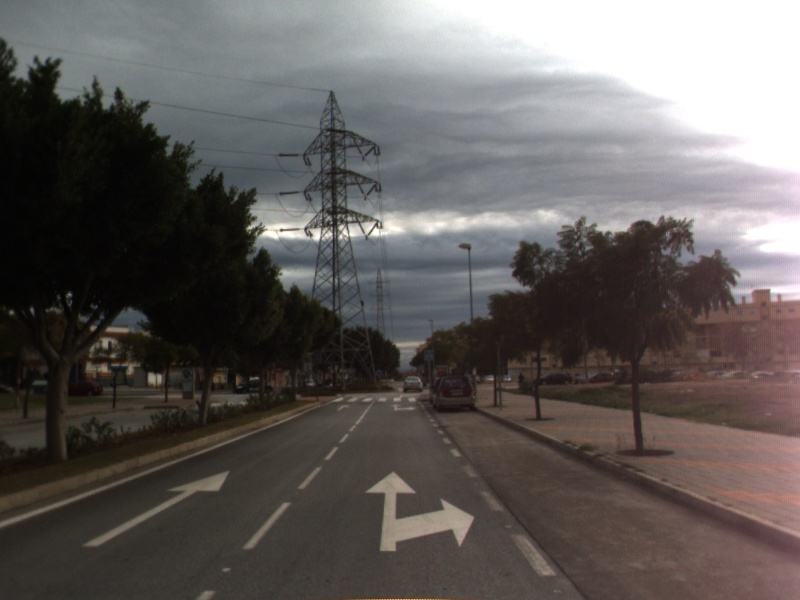STRAIGHT: (80, 469, 231, 549), (335, 402, 353, 412)
STRAIGHT_RIGHT: (363, 469, 477, 553), (389, 402, 418, 413)
